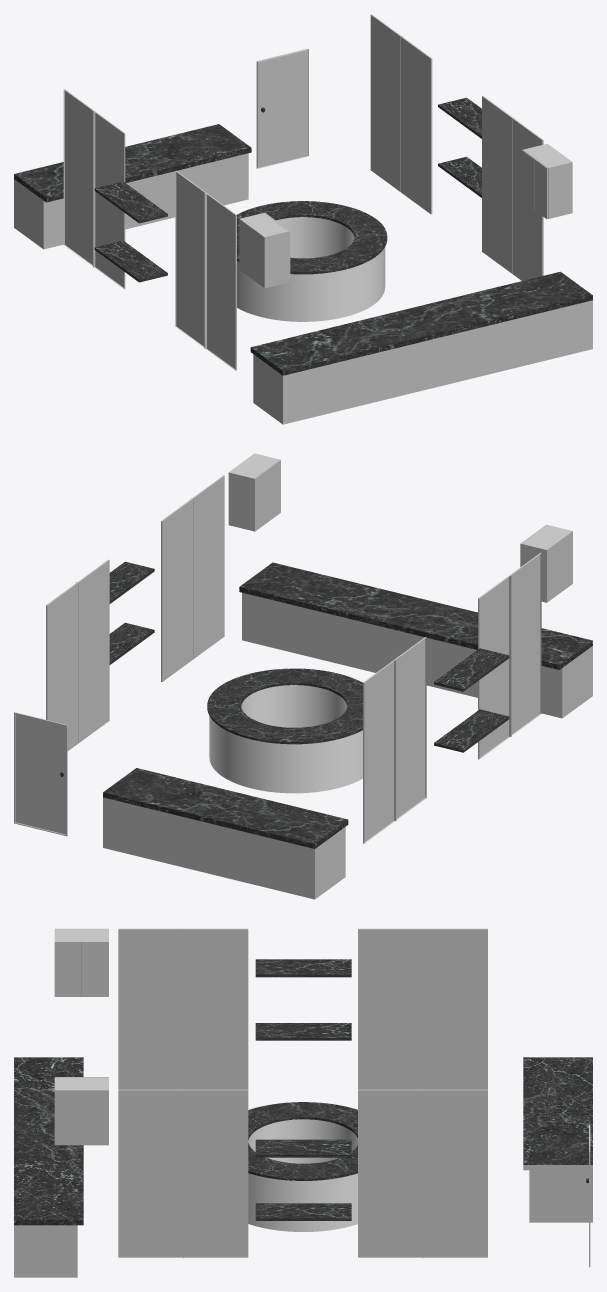
The model's file is Blockout.fbx.
The picture shows the model from 3 angles, top to bottom: view 1: azimuth 30°, elevation 25°; view 2: azimuth 150°, elevation 25°; view 3: azimuth 270°, elevation 25°; orthographic projection. The views are drawn at different scales.
Parts seen in each view (by area): view 1: Cube, Closets, Desk.001, Cabinet, Room.001, Cabinet.004; view 2: Cube, Closets, Desk.001, Cabinet, Room.001, Cabinet.004; view 3: Closets, Cube, Desk.001, Cabinet, Cabinet.004.
Part boxes in pixels (<box>): Cube: <box>14,124,592,424</box>; Closets: <box>63,14,543,370</box>; Desk.001: <box>237,201,387,321</box>; Cabinet: <box>239,143,572,288</box>; Room.001: <box>256,48,308,168</box>; Cabinet.004: <box>94,97,481,282</box>; Cube: <box>103,562,592,899</box>; Closets: <box>46,475,541,843</box>; Desk.001: <box>207,668,362,793</box>; Cabinet: <box>228,453,572,602</box>; Room.001: <box>14,712,67,836</box>; Cabinet.004: <box>109,561,509,752</box>; Closets: <box>118,928,487,1258</box>; Cube: <box>14,1057,592,1277</box>; Desk.001: <box>248,1102,357,1231</box>; Cabinet: <box>54,928,108,1145</box>; Cabinet.004: <box>255,959,351,1220</box>.
Bounding box in the file's own units: 725 × 323 × 907.
3 materials, 1 textured.
